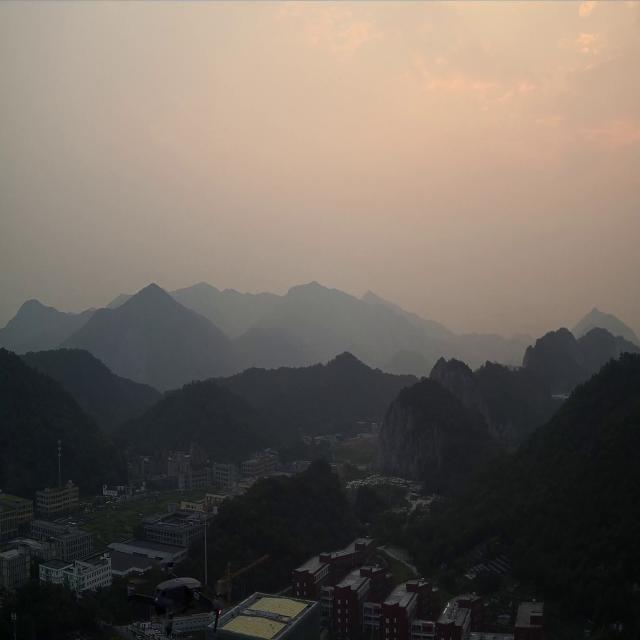UAV: (123, 559, 231, 639)
